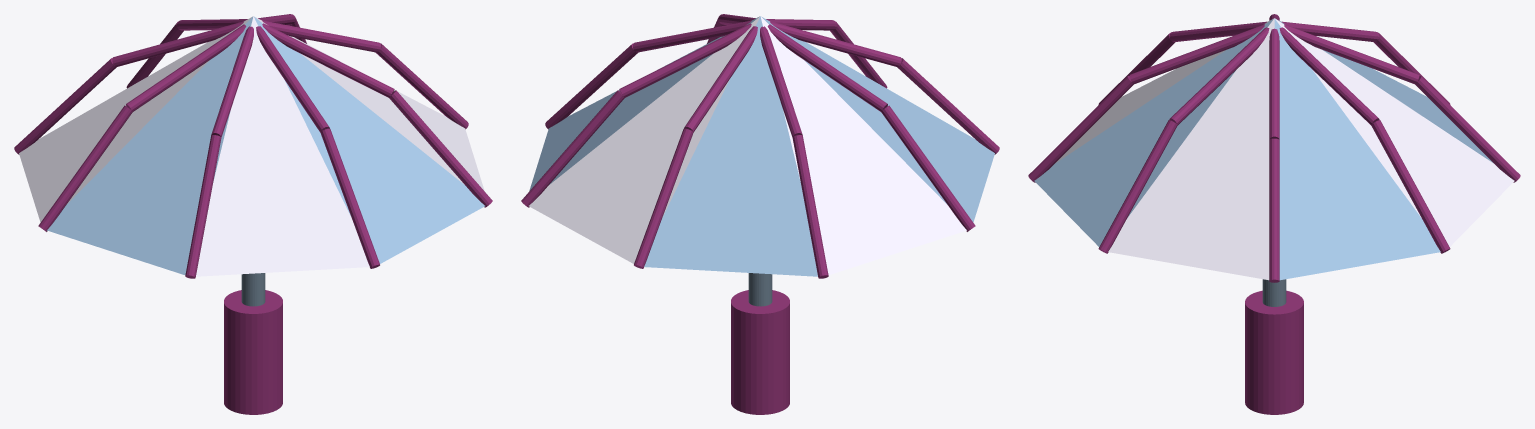
File: foldumbrella.glb
The picture shows the model from 3 angles, left to right: view 1: azimuth 30°, elevation 25°; view 2: azimuth 150°, elevation 25°; view 3: azimuth 270°, elevation 25°; orthographic projection.
Visible parts, largest first — view 1: panel2, panel3, panel1, panel4, handle, panel0, rib21, rib41, rib31, rib11, rib10, rib40 (+9 smaller); view 2: panel5, panel4, panel6, panel3, handle, panel7, rib61, rib41, rib51, rib71, rib70, rib40 (+9 smaller); view 3: panel0, panel7, panel1, panel6, handle, panel2, panel5, rib11, rib71, rib01, rib20, rib60 (+10 smaller).
Boxes of the visible parts, x1,y1,x2,y2 form: panel2: (196, 16, 369, 276); panel3: (47, 16, 253, 274); panel1: (254, 17, 484, 263); panel4: (19, 16, 252, 222); handle: (224, 290, 282, 414); panel0: (254, 16, 484, 190); rib21: (320, 128, 379, 268); rib41: (38, 105, 132, 231); rib31: (185, 135, 221, 278); rib11: (389, 90, 492, 207); rib10: (262, 23, 394, 97); rib40: (126, 24, 246, 111); panel5: (644, 16, 817, 276); panel4: (760, 16, 966, 274); panel6: (529, 17, 759, 263); panel3: (761, 16, 994, 222); handle: (731, 290, 789, 414); panel7: (529, 16, 759, 190); rib61: (634, 128, 693, 268); rib41: (881, 105, 975, 231); rib51: (792, 135, 828, 278); rib71: (521, 90, 624, 207); rib70: (619, 23, 751, 97); rib40: (767, 24, 887, 111); panel0: (1108, 18, 1274, 280); panel7: (1274, 19, 1440, 280); panel1: (1034, 18, 1273, 246); panel6: (1275, 18, 1514, 246); handle: (1245, 290, 1303, 414); panel2: (1055, 18, 1273, 163); panel5: (1275, 18, 1493, 163); rib11: (1098, 120, 1177, 253); rib71: (1371, 120, 1450, 253); rib01: (1269, 138, 1279, 282); rib20: (1129, 24, 1264, 84); rib60: (1284, 24, 1419, 84).
Size of the model in its own units: 1.67 by 1.44 by 1.67.
